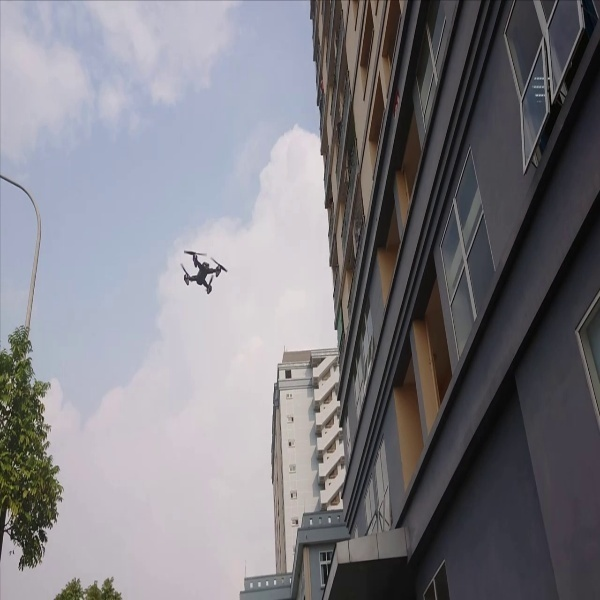drone: (166, 240, 233, 306)
